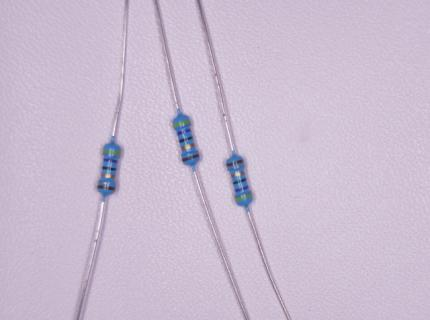Gold band: (231, 171, 245, 178), (181, 144, 195, 151), (100, 173, 115, 179)
Violet band: (176, 128, 192, 135), (234, 185, 249, 192), (104, 158, 117, 163)
Yellow band: (234, 193, 253, 202), (172, 120, 190, 128), (103, 149, 121, 155)
